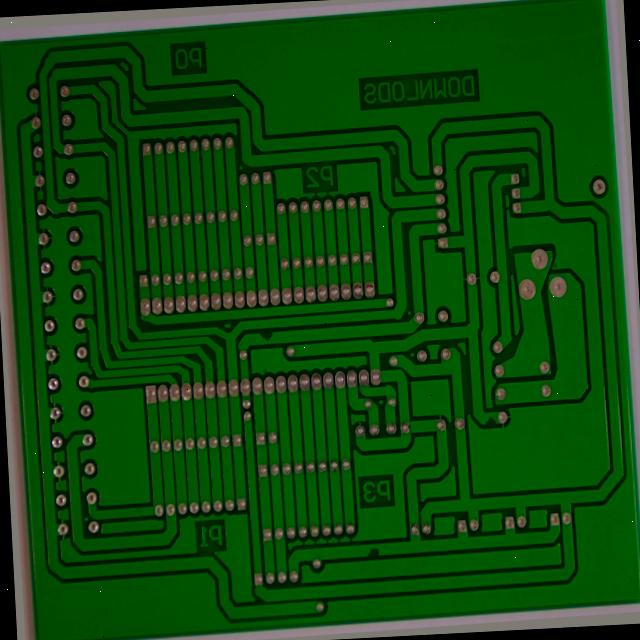mouse_bite: (253, 325, 273, 345), (359, 550, 380, 568), (481, 418, 499, 437)
